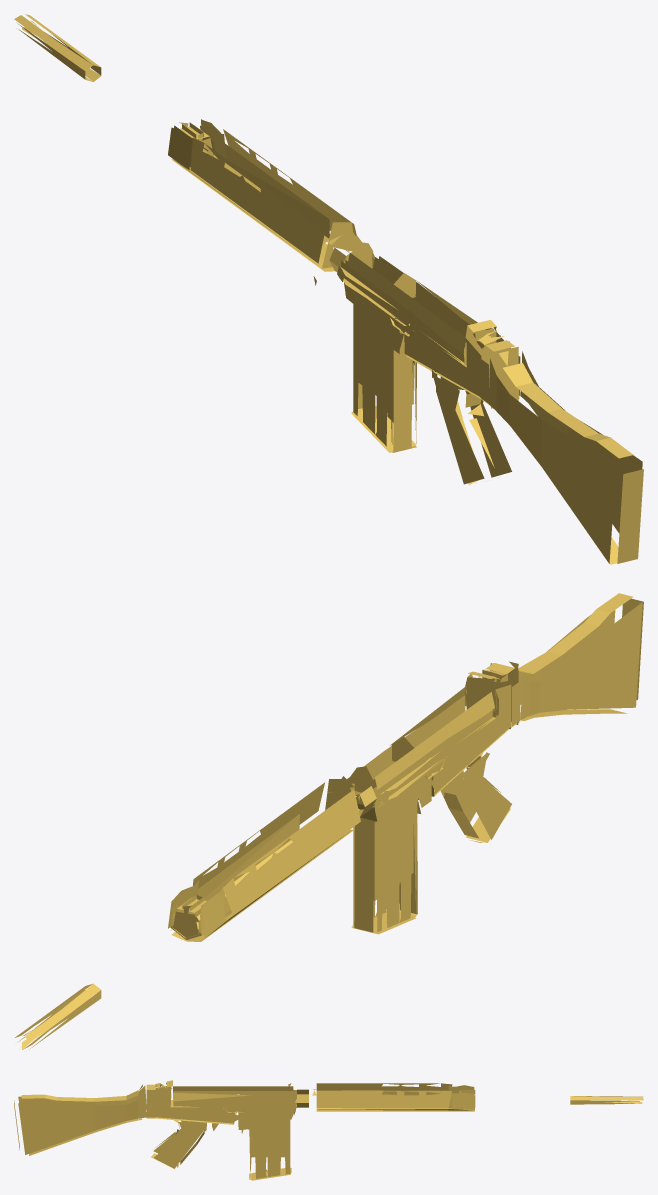
File: charm_mst_fusil_11.glb
The picture shows the model from 3 angles, top to bottom: view 1: azimuth 30°, elevation 25°; view 2: azimuth 150°, elevation 25°; view 3: azimuth 270°, elevation 25°; orthographic projection. The views are drawn at different scales.
Visible parts, largest first — view 1: p0_paint; view 2: p0_paint; view 3: p0_paint.
Boxes of the visible parts, x1=… form: p0_paint: x1=14, y1=14, x2=643, y2=564; p0_paint: x1=15, y1=593, x2=643, y2=1049; p0_paint: x1=14, y1=1080, x2=643, y2=1180.
Bounding box in the file's own units: 0.0875 × 0.179 × 1.08.
